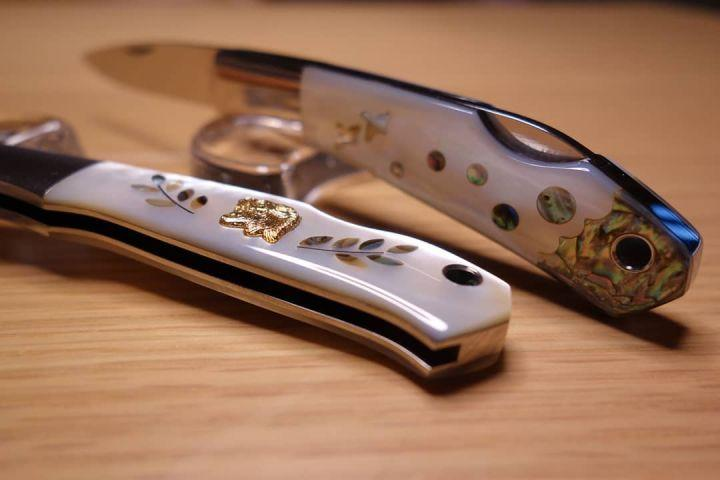knife: (54, 12, 703, 411)
